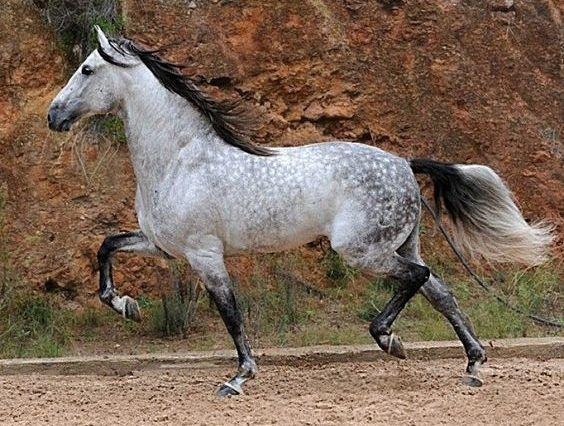horse: (46, 23, 556, 399)
